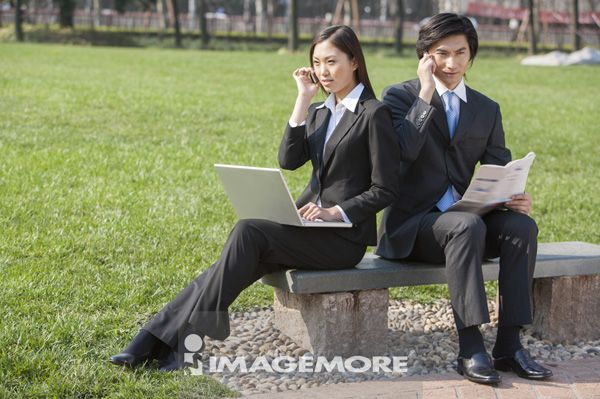talk: (416, 44, 467, 100), (292, 52, 344, 106)
